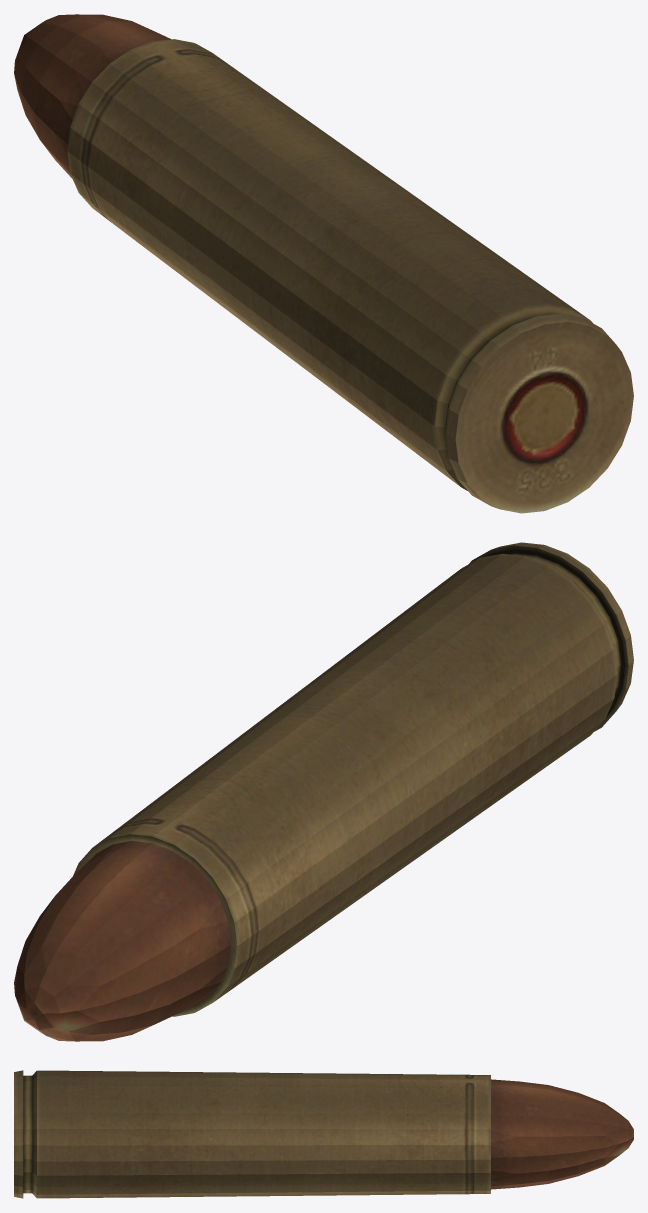
3 renders of one model, top to bottom at view 1: azimuth 30°, elevation 25°; view 2: azimuth 150°, elevation 25°; view 3: azimuth 270°, elevation 25°, orthographic. The views are drawn at different scales.
Parts seen in each view (by area): view 1: TW_5cadf6ddae9215051e1c23b2_PZ_Import; view 2: TW_5cadf6ddae9215051e1c23b2_PZ_Import; view 3: TW_5cadf6ddae9215051e1c23b2_PZ_Import.
Part boxes in pixels (x1=…): TW_5cadf6ddae9215051e1c23b2_PZ_Import: x1=14, y1=14, x2=633, y2=513; TW_5cadf6ddae9215051e1c23b2_PZ_Import: x1=14, y1=542, x2=633, y2=1041; TW_5cadf6ddae9215051e1c23b2_PZ_Import: x1=14, y1=1070, x2=633, y2=1198.
Bounding box in the file's own units: 0.00858 × 0.0413 × 0.00858.
1 material, 1 textured.
